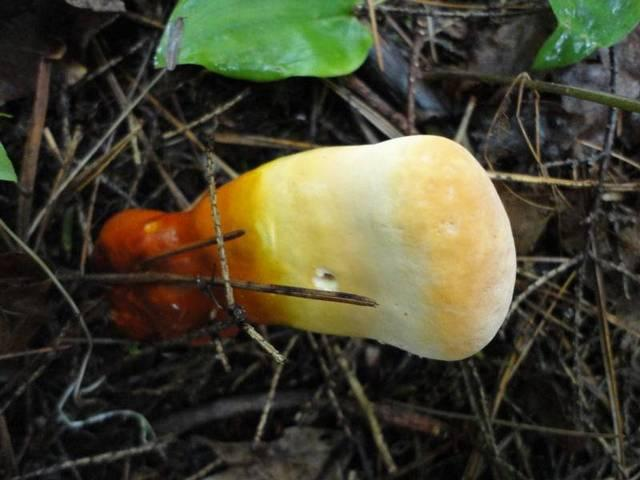poisonous_mushroom: (88, 132, 518, 363)
